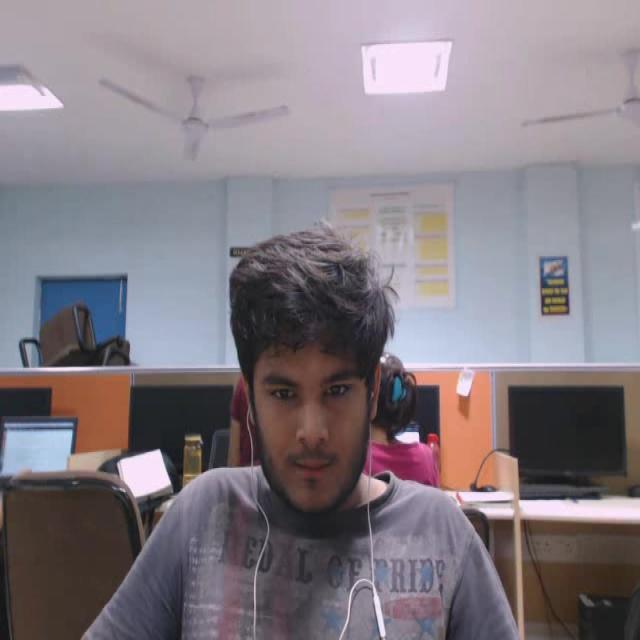Engaged: (210, 194, 422, 578)
